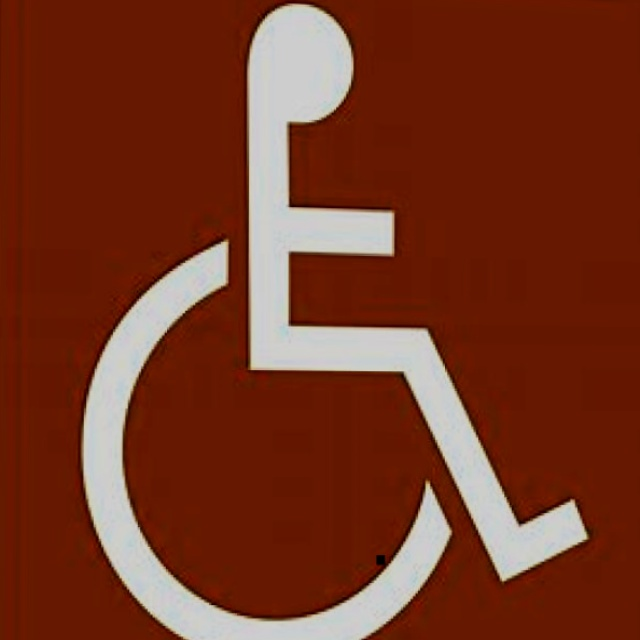ISA: (78, 0, 594, 640)
